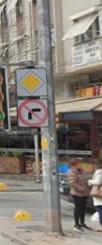rightturnsareforbidden: (18, 96, 50, 127)
